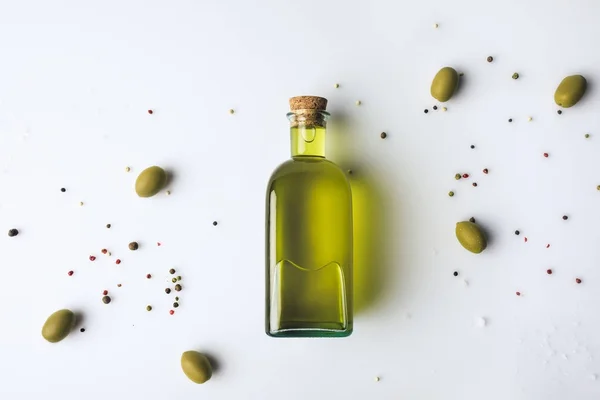glass_bottle: (244, 88, 368, 350)
